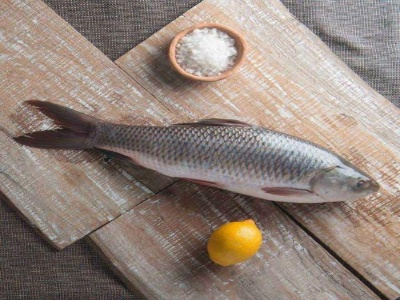rohu: (8, 89, 387, 213)
